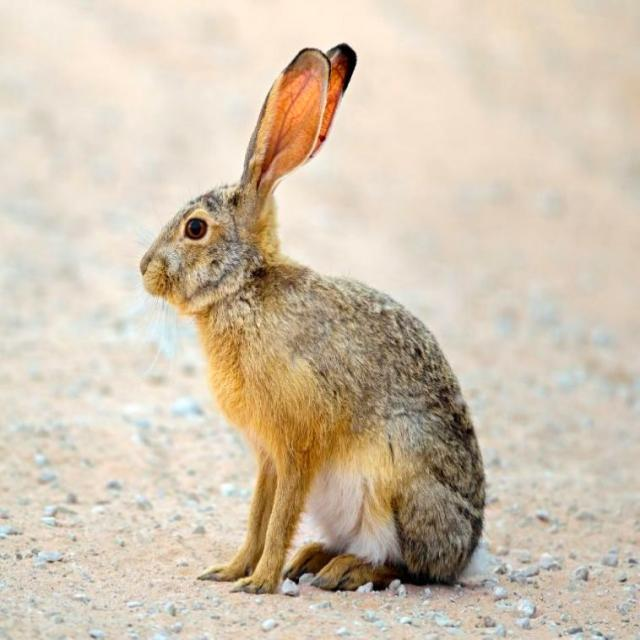hare: (139, 44, 485, 593)
